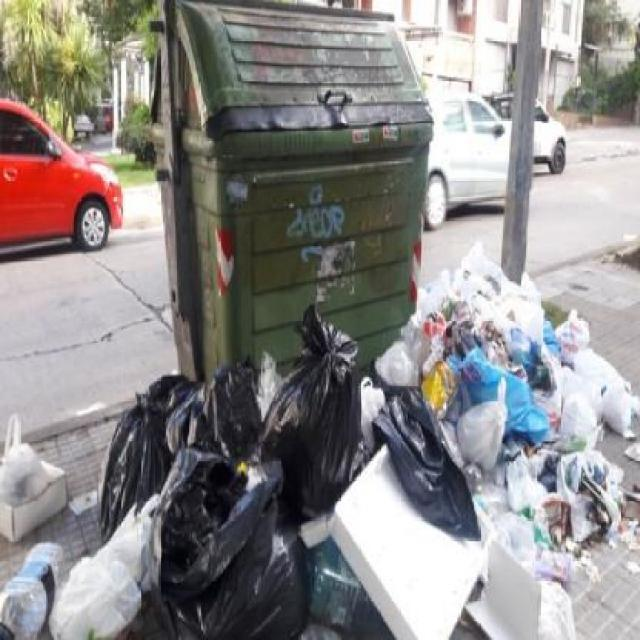garbage: (125, 362, 558, 638), (425, 243, 632, 468), (0, 494, 148, 637), (539, 451, 636, 570), (0, 415, 78, 544)
